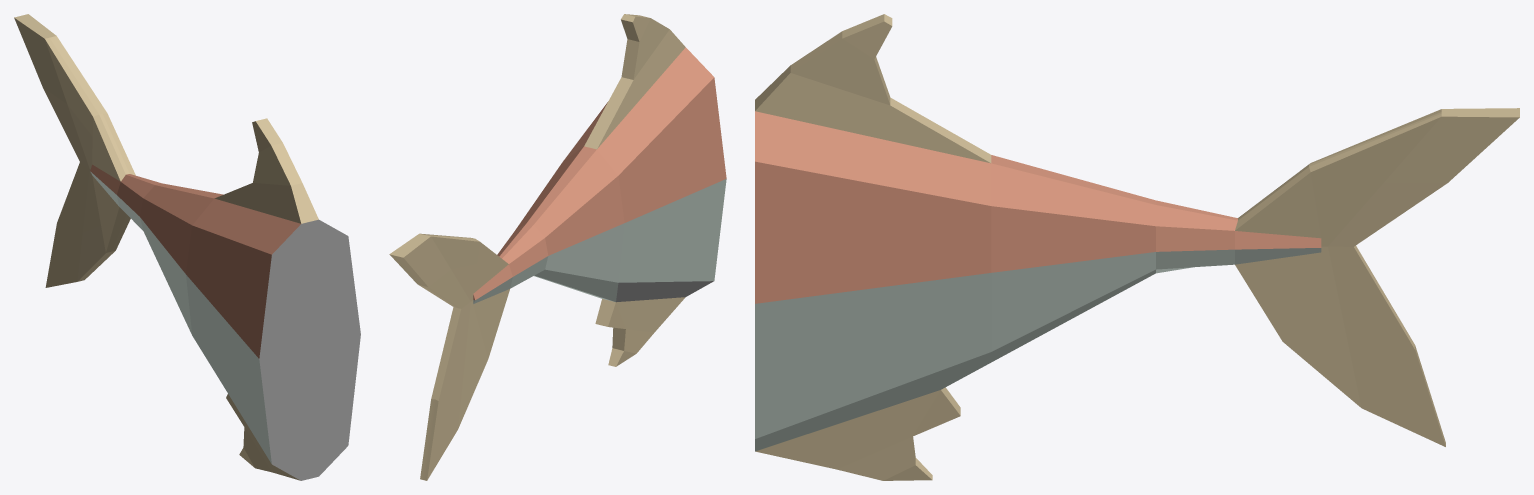
Rendered from buttomButtomPart.fbx.
3 views of the same model, side by side, from view 1: azimuth 30°, elevation 25°; view 2: azimuth 150°, elevation 25°; view 3: azimuth 270°, elevation 25° (orthographic). The views are drawn at different scales.
Parts seen in each view (by area): view 1: pasted__Fish; view 2: pasted__Fish; view 3: pasted__Fish.
Part boxes in pixels (<box>): pasted__Fish: <box>14,14,360,480</box>; pasted__Fish: <box>389,14,726,480</box>; pasted__Fish: <box>755,14,1519,480</box>.
Bounding box in the file's own units: 28.1 × 91.8 × 138.
